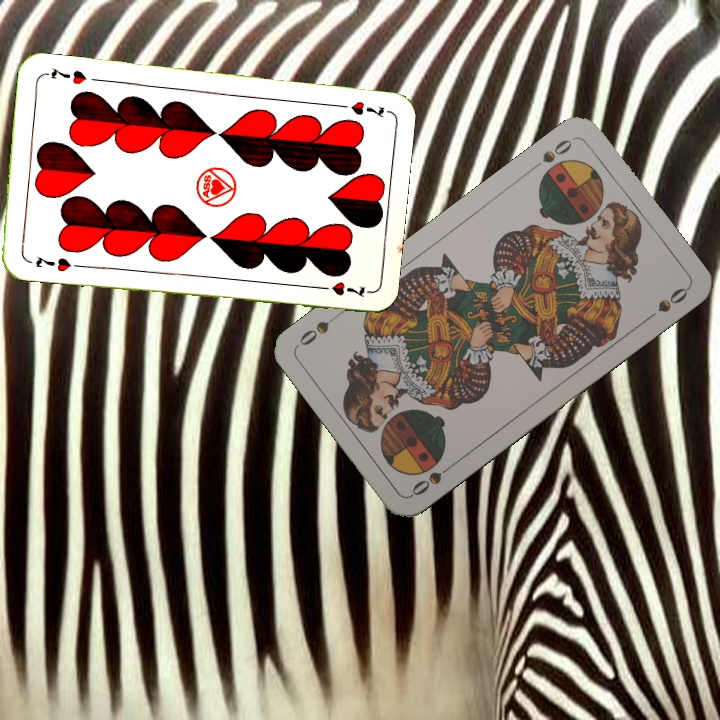H7: (331, 97, 387, 120), (32, 252, 74, 275)
SO: (407, 458, 458, 499), (526, 134, 577, 174)
